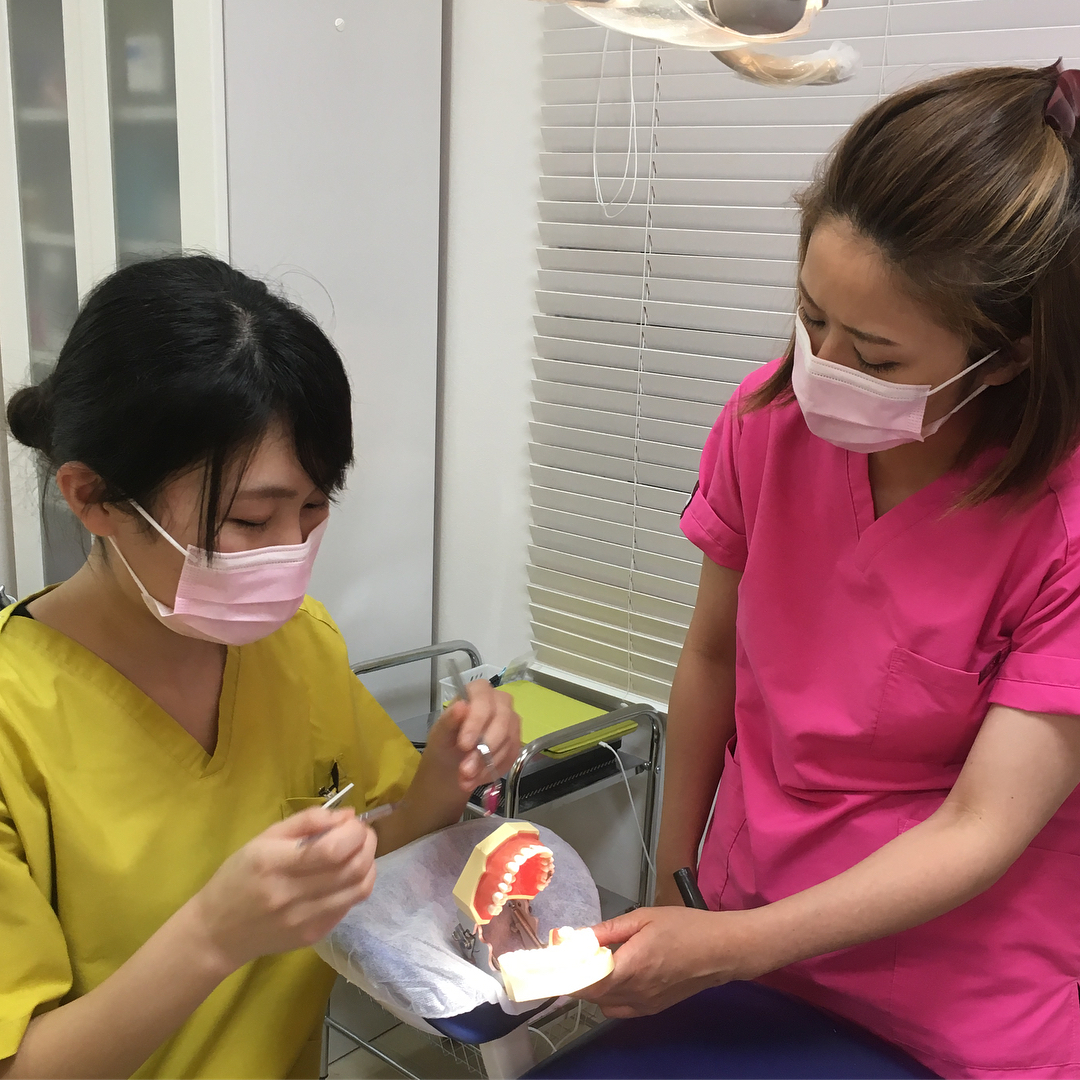mask: (144, 522, 333, 638), (788, 316, 928, 450)
